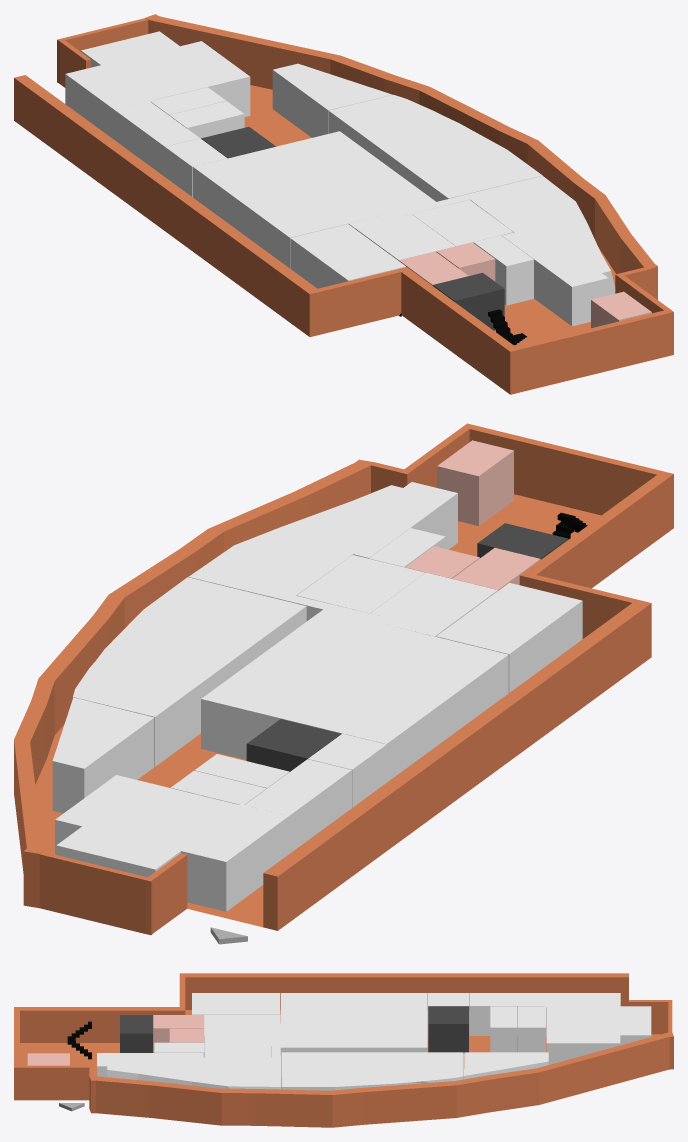
3 views of the same model, one above another, from view 1: azimuth 30°, elevation 25°; view 2: azimuth 150°, elevation 25°; view 3: azimuth 270°, elevation 25° (orthographic). The views are drawn at different scales.
Parts seen in each view (by area): view 1: object, 学生相談室・事務室・カウンセラー控室, 待合スペース, 相談室1, 相談室4, 相談室3, 相談室2, 湯沸室, エレベーター_グリーントップ_B1_2, バリアフリートイレ, エレベーター_グリーントップ_B1_1, 女子トイレ_グリーントップ_B1 (+1 smaller); view 2: object, 学生相談室・事務室・カウンセラー控室, 待合スペース, 相談室1, 相談室4, バリアフリートイレ, 相談室3, 相談室2, エレベーター_グリーントップ_B1_1, 男子トイレ_グリーントップ_B1, エレベーター_グリーントップ_B1_2, 湯沸室 (+1 smaller); view 3: object, 学生相談室・事務室・カウンセラー控室, 待合スペース, 相談室1, エレベーター_グリーントップ_B1_1, 相談室4, 相談室3, 相談室2, エレベーター_グリーントップ_B1_2, 男子トイレ_グリーントップ_B1, 湯沸室, バリアフリートイレ (+2 smaller).
Part boxes in pixels (x1=…): object: x1=14, y1=14, x2=673, y2=394; 学生相談室・事務室・カウンセラー控室: x1=328, y1=95, x2=542, y2=201; 待合スペース: x1=348, y1=176, x2=615, y2=326; 相談室1: x1=290, y1=224, x2=405, y2=288; 相談室4: x1=272, y1=63, x2=392, y2=137; 相談室3: x1=412, y1=200, x2=513, y2=246; 相談室2: x1=355, y1=214, x2=455, y2=260; 湯沸室: x1=473, y1=235, x2=533, y2=305; エレベーター_グリーントップ_B1_2: x1=432, y1=273, x2=504, y2=330; バリアフリートイレ: x1=591, y1=291, x2=651, y2=327; エレベーター_グリーントップ_B1_1: x1=201, y1=127, x2=275, y2=158; 女子トイレ_グリーントップ_B1: x1=436, y1=242, x2=495, y2=281; object: x1=14, y1=423, x2=673, y2=935; 学生相談室・事務室・カウンセラー控室: x1=72, y1=577, x2=306, y2=766; 待合スペース: x1=188, y1=482, x2=457, y2=636; 相談室1: x1=436, y1=583, x2=582, y2=692; 相談室4: x1=52, y1=697, x2=154, y2=813; バリアフリートイレ: x1=437, y1=440, x2=513, y2=525; 相談室3: x1=297, y1=555, x2=425, y2=613; 相談室2: x1=370, y1=572, x2=497, y2=631; エレベーター_グリーントップ_B1_1: x1=246, y1=719, x2=341, y2=771; 男子トイレ_グリーントップ_B1: x1=452, y1=548, x2=540, y2=590; エレベーター_グリーントップ_B1_2: x1=477, y1=523, x2=568, y2=559; 湯沸室: x1=369, y1=528, x2=445, y2=567; object: x1=14, y1=973, x2=673, y2=1127; 学生相談室・事務室・カウンセラー控室: x1=281, y1=1052, x2=463, y2=1090; 待合スペース: x1=97, y1=1015, x2=280, y2=1089; 相談室1: x1=192, y1=993, x2=279, y2=1014; エレベーター_グリーントップ_B1_1: x1=428, y1=1006, x2=468, y2=1053; 相談室4: x1=464, y1=1052, x2=548, y2=1079; 相談室3: x1=204, y1=1036, x2=271, y2=1057; 相談室2: x1=204, y1=1015, x2=271, y2=1057; エレベーター_グリーントップ_B1_2: x1=120, y1=1015, x2=152, y2=1052; 男子トイレ_グリーントップ_B1: x1=153, y1=1015, x2=204, y2=1052; 湯沸室: x1=154, y1=1042, x2=204, y2=1057; バリアフリートイレ: x1=27, y1=1053, x2=69, y2=1065.
Size of the model in its own units: 1.56 by 0.2096 by 3.58.
